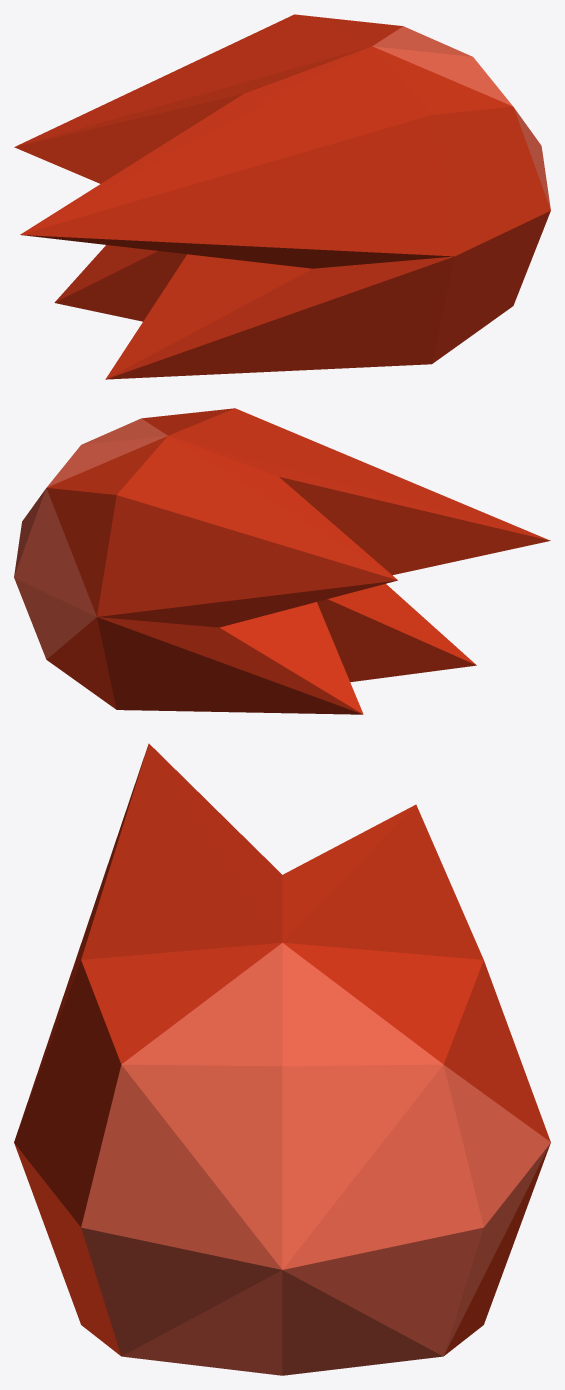
File: witch_projectile.glb
The picture shows the model from 3 angles, top to bottom: view 1: azimuth 30°, elevation 25°; view 2: azimuth 150°, elevation 25°; view 3: azimuth 270°, elevation 25°; orthographic projection. The views are drawn at different scales.
Parts seen in each view (by area): view 1: witch_projectile; view 2: witch_projectile; view 3: witch_projectile.
Boxes of the visible parts, x1,y1,x2,y2 form: witch_projectile: (14, 14, 550, 379); witch_projectile: (14, 408, 550, 714); witch_projectile: (14, 743, 550, 1375).
Bounding box in the file's own units: 1.62 × 0.7663 × 0.904.
Materials: 1 (1 with a texture image).
